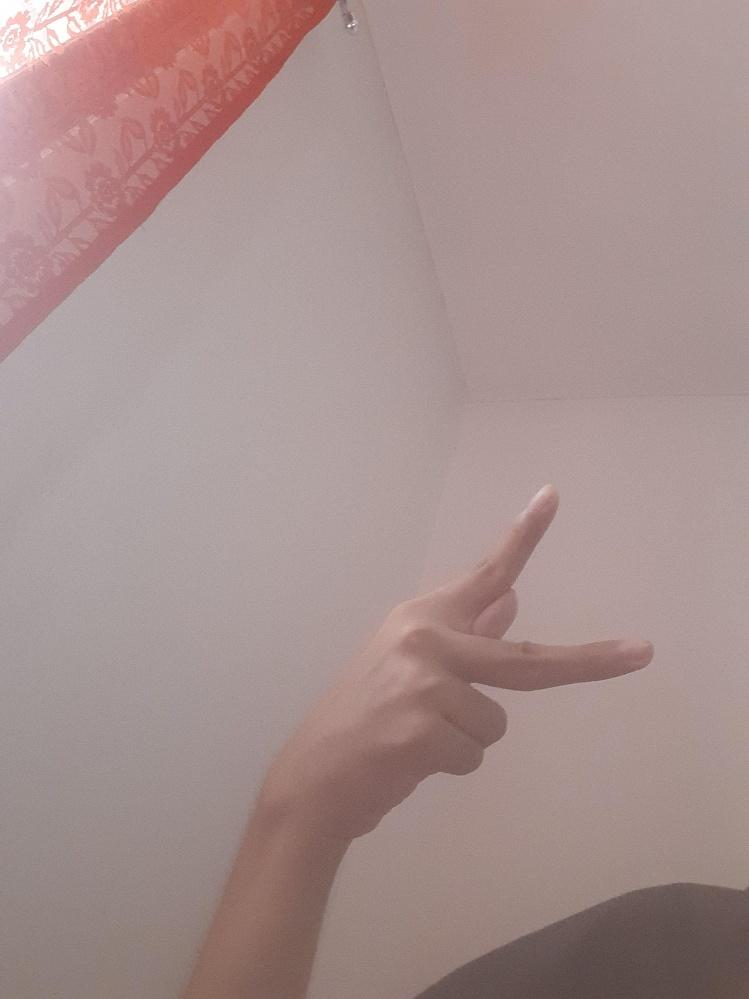k: (308, 482, 654, 841)
